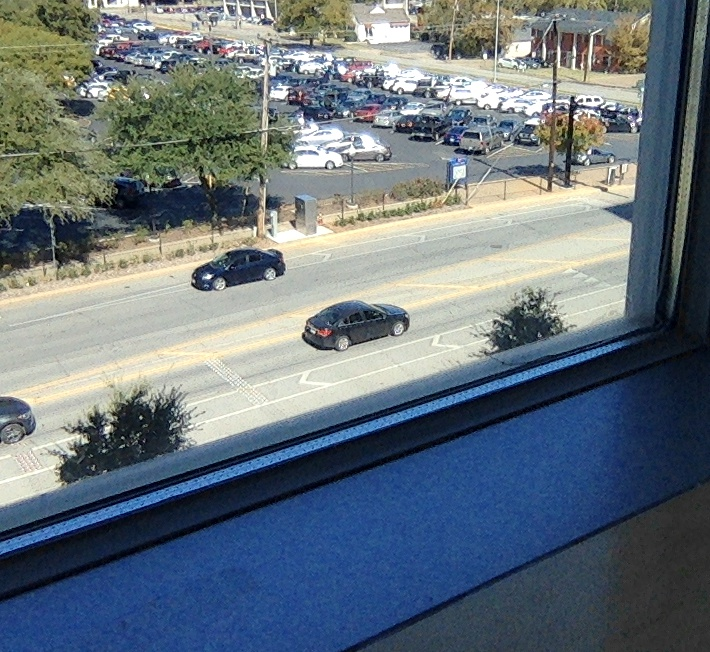car: (300, 300, 410, 352)
